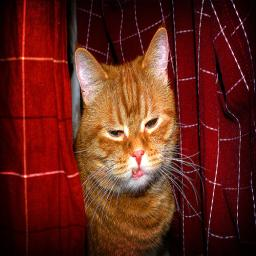catnose: (129, 146, 147, 166)
